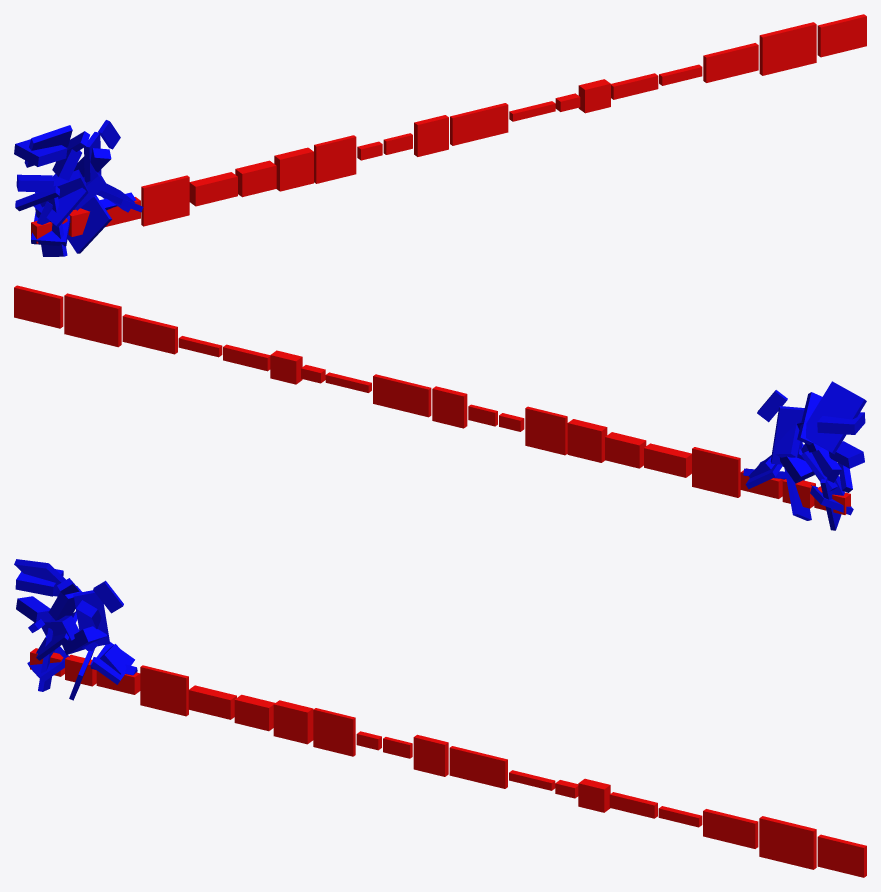
The model's file is test.layouter.flatortho.gltf.
3 views of the same model, one above another, from view 1: azimuth 30°, elevation 25°; view 2: azimuth 150°, elevation 25°; view 3: azimuth 330°, elevation 25° (orthographic).
Parts seen in each view (by area): view 1: shape_38, shape_23, shape_31, shape_27, shape_39, shape_37, shape_26, shape_24, shape_30, shape_25, shape_3, shape_34 (+16 smaller); view 2: shape_38, shape_23, shape_18, shape_31, shape_27, shape_39, shape_37, shape_26, shape_30, shape_24, shape_25, shape_34 (+15 smaller); view 3: shape_38, shape_23, shape_31, shape_27, shape_39, shape_37, shape_26, shape_30, shape_24, shape_25, shape_34, shape_17 (+7 smaller).
Part boxes in pixels (left/top/right/bottom): shape_38: left=759, top=22, right=816, bottom=75; shape_23: left=141, top=175, right=189, bottom=226; shape_31: left=450, top=103, right=508, bottom=145; shape_27: left=314, top=135, right=356, bottom=183; shape_39: left=817, top=14, right=866, bottom=57; shape_37: left=703, top=43, right=758, bottom=82; shape_26: left=274, top=147, right=313, bottom=191; shape_24: left=189, top=172, right=237, bottom=206; shape_30: left=414, top=115, right=448, bottom=156; shape_25: left=235, top=160, right=276, bottom=197; shape_3: left=67, top=196, right=111, bottom=253; shape_34: left=578, top=79, right=610, bottom=113; shape_38: left=64, top=293, right=121, bottom=347; shape_23: left=692, top=447, right=740, bottom=497; shape_18: left=806, top=381, right=866, bottom=454; shape_31: left=373, top=374, right=431, bottom=417; shape_27: left=525, top=406, right=567, bottom=455; shape_39: left=14, top=285, right=63, bottom=328; shape_37: left=122, top=314, right=177, bottom=354; shape_26: left=567, top=419, right=607, bottom=462; shape_30: left=432, top=386, right=467, bottom=428; shape_24: left=644, top=443, right=691, bottom=477; shape_25: left=605, top=432, right=646, bottom=468; shape_34: left=270, top=350, right=302, bottom=384; shape_38: left=759, top=816, right=816, bottom=869; shape_23: left=140, top=665, right=188, bottom=716; shape_31: left=449, top=746, right=507, bottom=788; shape_27: left=313, top=708, right=355, bottom=756; shape_39: left=817, top=834, right=866, bottom=877; shape_37: left=703, top=809, right=758, bottom=848; shape_26: left=273, top=700, right=313, bottom=744; shape_30: left=413, top=734, right=448, bottom=776; shape_24: left=188, top=685, right=236, bottom=719; shape_25: left=234, top=694, right=274, bottom=731; shape_34: left=578, top=778, right=610, bottom=812; shape_17: left=73, top=590, right=110, bottom=648.
Bounding box in the file's own units: 1035 × 162 × 63.64.
